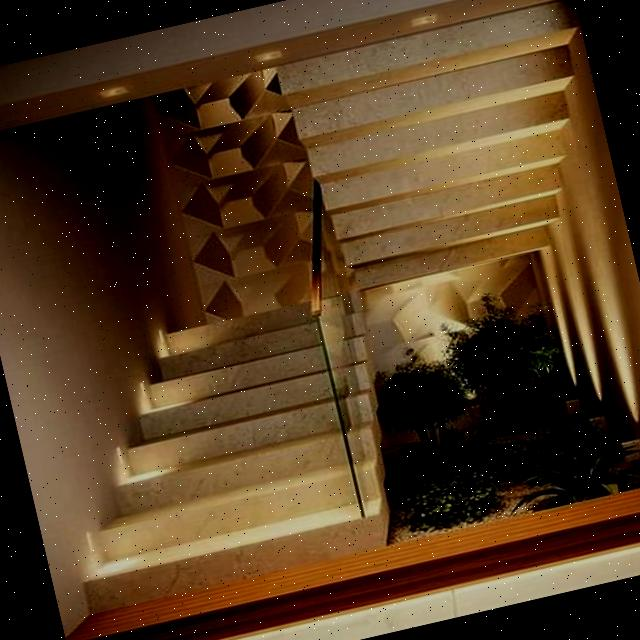stairs: (0, 0, 640, 623), (28, 286, 400, 614)
